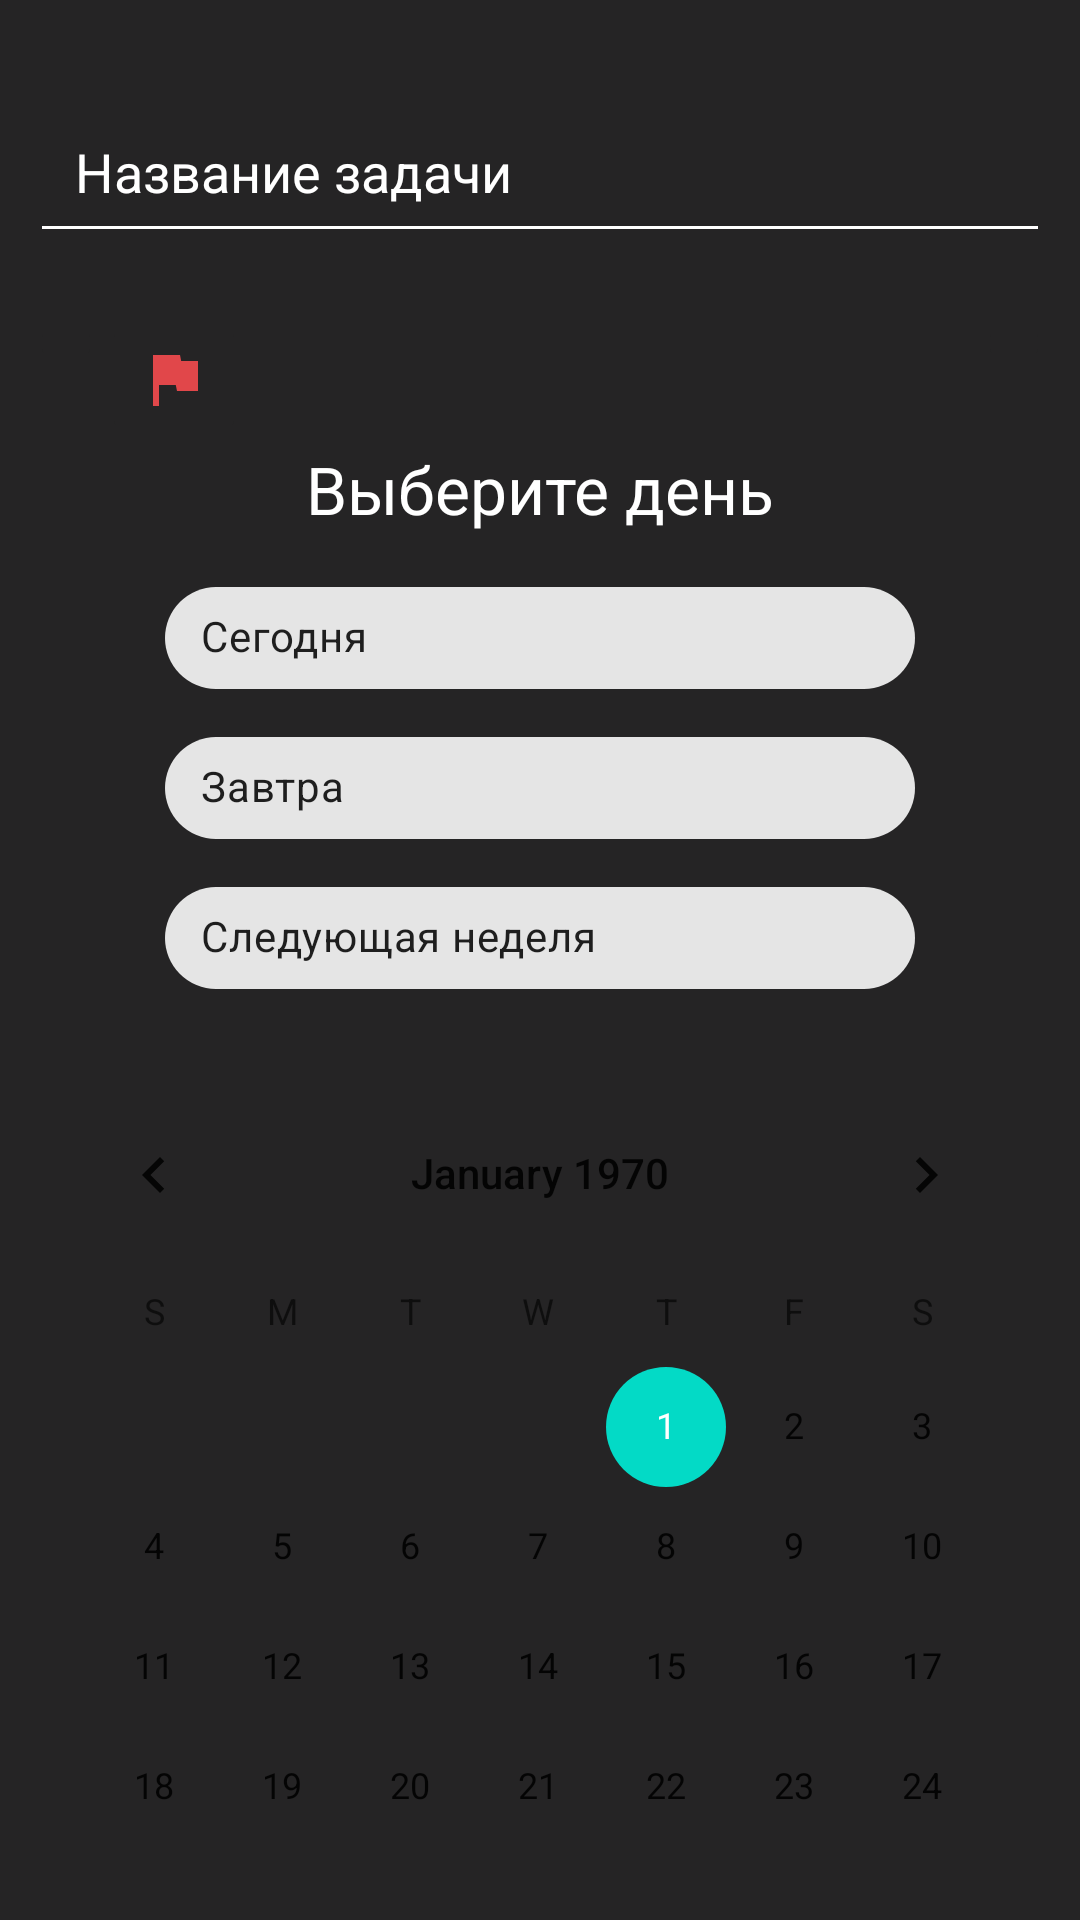

Icons on this 1080x1920 Android screen, each with the point to tap as [x,y]:
flag: [175,380]
